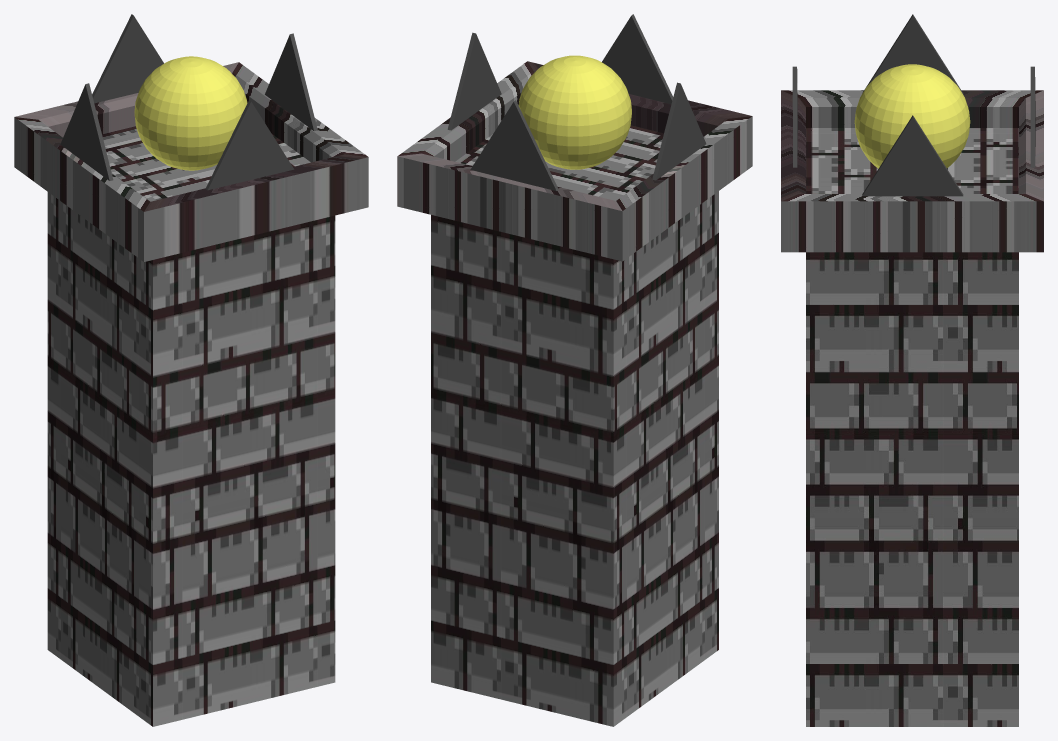
File: Tower.fbx
The picture shows the model from 3 angles, left to right: view 1: azimuth 30°, elevation 25°; view 2: azimuth 150°, elevation 25°; view 3: azimuth 270°, elevation 25°; orthographic projection.
Parts seen in each view (by area): view 1: Cube, Plane, Sphere; view 2: Cube, Plane, Sphere; view 3: Cube, Sphere, Plane.
Boxes of the visible parts, box(x1,y1,x2,y2) form: Cube: box(14, 62, 368, 726); Plane: box(60, 14, 317, 190); Sphere: box(134, 56, 247, 170); Cube: box(397, 61, 752, 726); Plane: box(447, 14, 706, 190); Sphere: box(518, 55, 631, 169); Cube: box(781, 90, 1043, 726); Sphere: box(854, 64, 970, 168); Plane: box(792, 14, 1035, 196).
Size of the model in its own units: 247 by 637 by 247.
3 materials, 1 textured.
